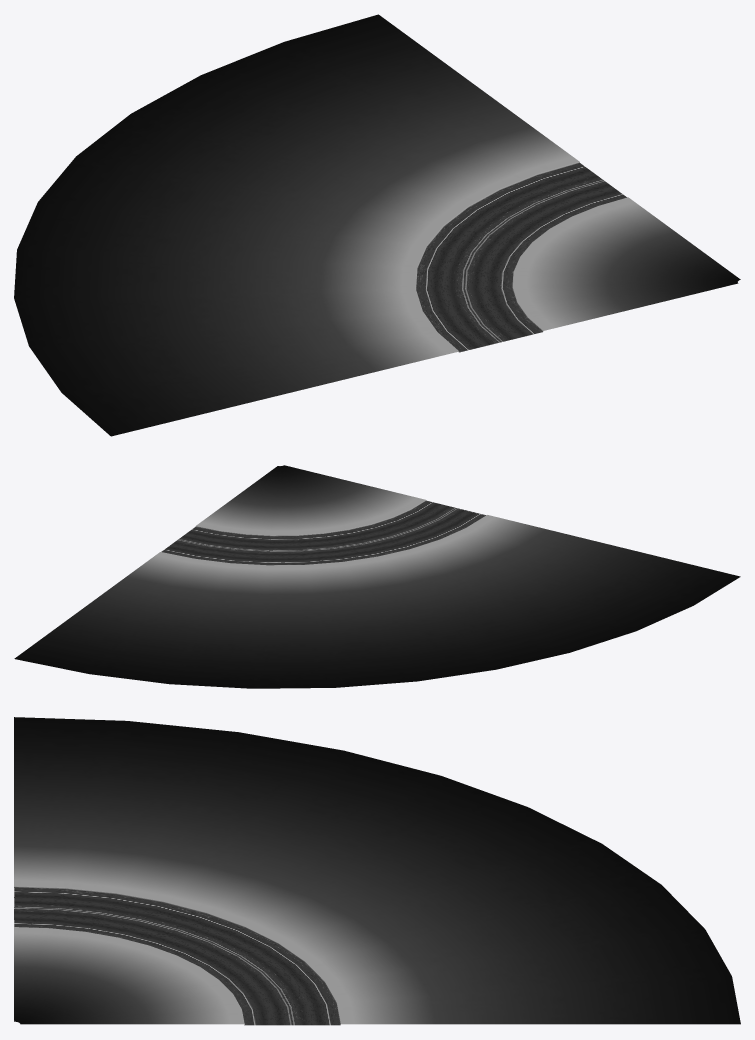
File: miami_road_001.FBX
3 views of the same model, one above another, from view 1: azimuth 30°, elevation 25°; view 2: azimuth 150°, elevation 25°; view 3: azimuth 270°, elevation 25° (orthographic). The views are drawn at different scales.
Visible parts, largest first — view 1: Plane022; view 2: Plane022; view 3: Plane022.
Part boxes in pixels (x1,y1,x2,y2): Plane022: (14, 14, 740, 436); Plane022: (14, 465, 740, 688); Plane022: (14, 717, 740, 1025).
Size of the model in its own units: 2657 by 6 by 2657.
